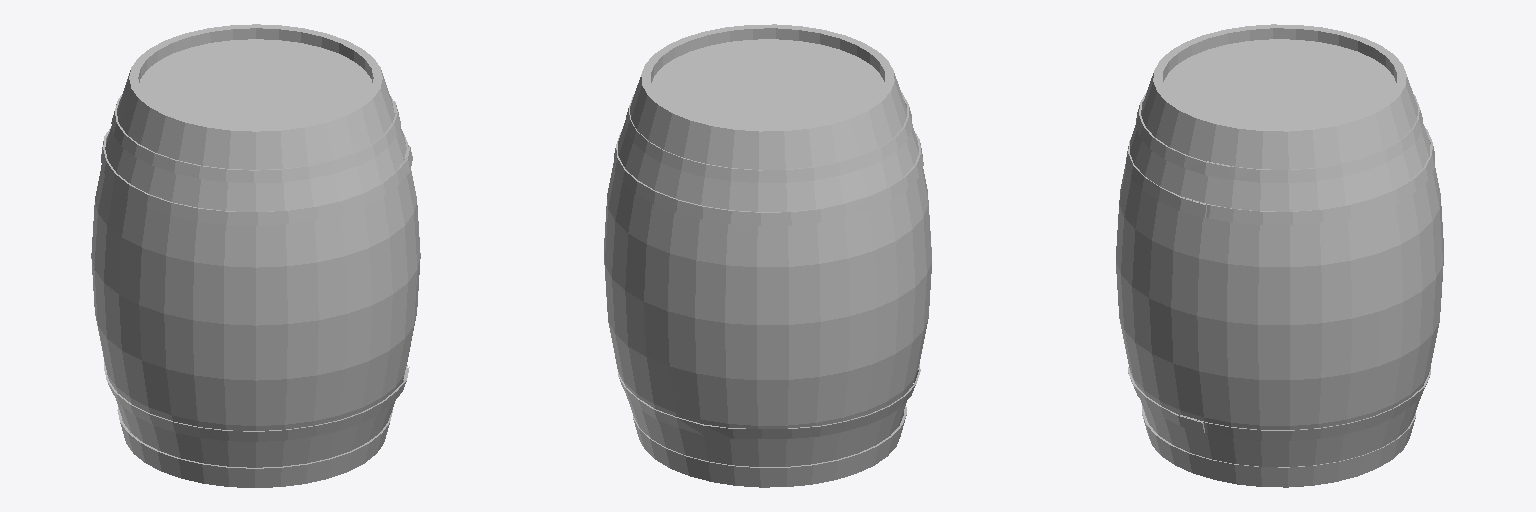
Rendered from barrel.obj.
3 renders of one model, left to right at view 1: azimuth 30°, elevation 25°; view 2: azimuth 150°, elevation 25°; view 3: azimuth 270°, elevation 25°, orthographic.
Parts seen in each view (by area): view 1: Circle; view 2: Circle; view 3: Circle.
Part boxes in pixels (x1,y1,x2,y2): Circle: (91, 24, 420, 487); Circle: (604, 24, 931, 487); Circle: (1116, 24, 1443, 487).
Size of the model in its own units: 2.68 by 3.2 by 2.68.